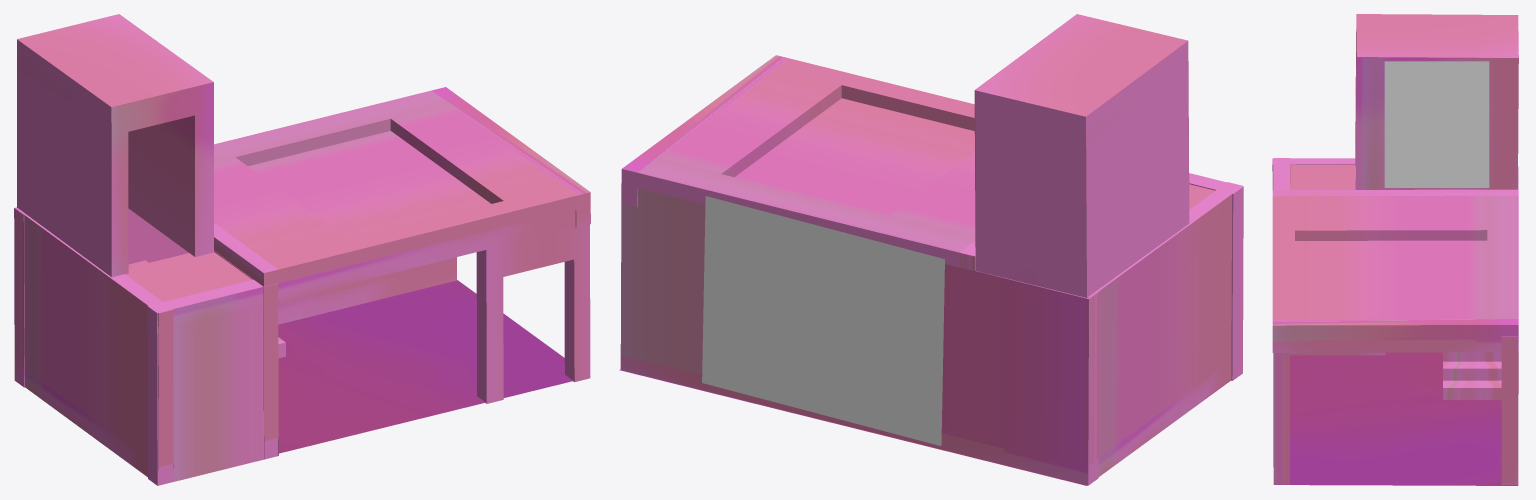
Rendered from brothel.glb.
3 views of the same model, side by side, from view 1: azimuth 30°, elevation 25°; view 2: azimuth 150°, elevation 25°; view 3: azimuth 270°, elevation 25° (orthographic). The views are drawn at different scales.
Visible parts, largest first — view 1: Cube, Plane; view 2: Cube, logo 2,2 BG; view 3: Cube, Plane, Logo 1,2 BG.
Part boxes in pixels (x1=…): Cube: x1=14, y1=14, x2=590, y2=485; Plane: x1=125, y1=280, x2=572, y2=476; Cube: x1=620, y1=14, x2=1243, y2=485; logo 2,2 BG: x1=702, y1=196, x2=944, y2=445; Cube: x1=1272, y1=14, x2=1518, y2=484; Plane: x1=1275, y1=352, x2=1518, y2=485; Logo 1,2 BG: x1=1384, y1=61, x2=1489, y2=187.
Bounding box in the file's own units: 88.19 × 66.46 × 51.17.
4 materials, 2 textured.
